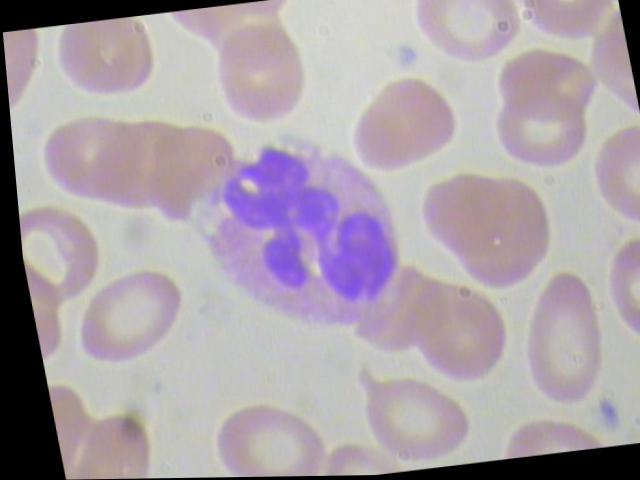Platelets: (578, 393, 623, 435)
Red Blood Cells: (398, 159, 561, 300), (500, 269, 624, 415), (198, 11, 327, 138), (333, 357, 470, 475), (335, 68, 472, 186), (55, 264, 192, 381), (392, 273, 519, 393), (478, 85, 600, 185), (42, 16, 166, 110), (14, 196, 111, 312), (401, 0, 536, 78), (197, 398, 326, 477)
White Blood Cells: (172, 118, 422, 350)
